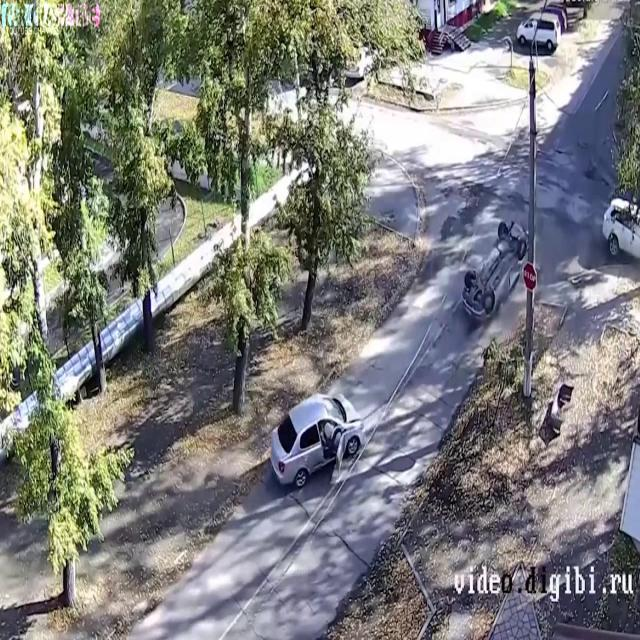accident: (456, 208, 534, 332)
